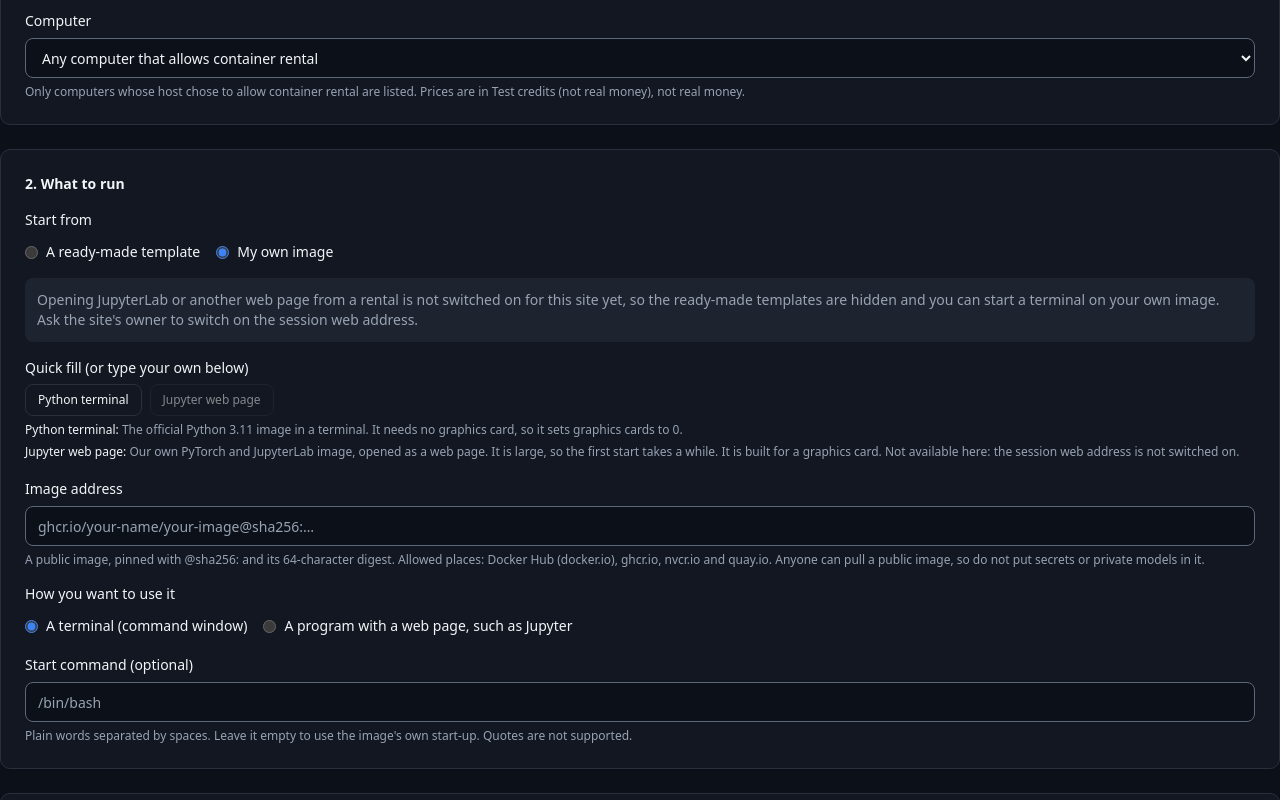
Scenario: Rent page: graphics cards › fills the form from the Python terminal button, and the Jupyter button explains why it is off here
The width and height of the screenshot is (1280, 800).
(page scrolled)
Check: the button "Jupyter web page" is disabled, box 150,384 -> 274,416
Click the button "Python terminal". click: (83, 400)
box: 25,384 -> 142,416
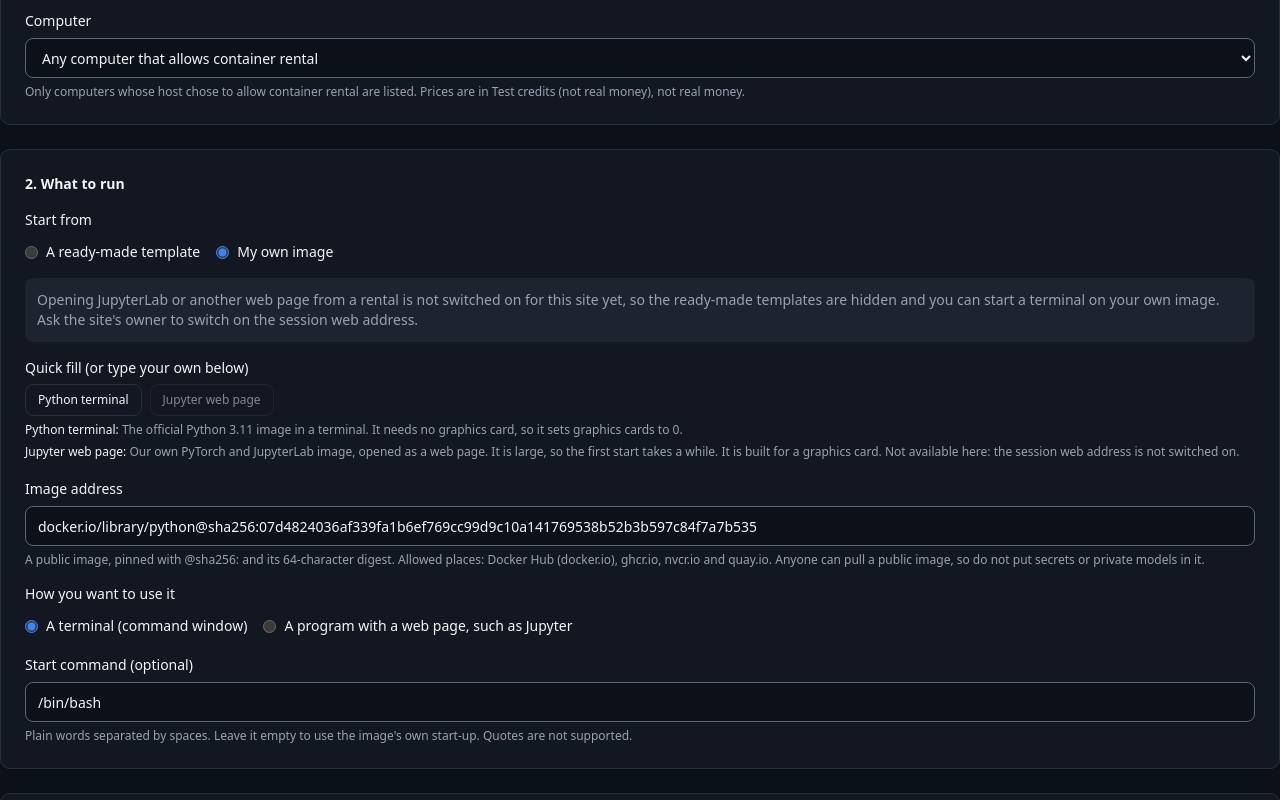
Check: the radio button labelled "A terminal (command window)" is checked, box 25,620 -> 38,632
Check: the field labelled "Start command (optional)" holds "/bin/bash", box 25,682 -> 1255,722
